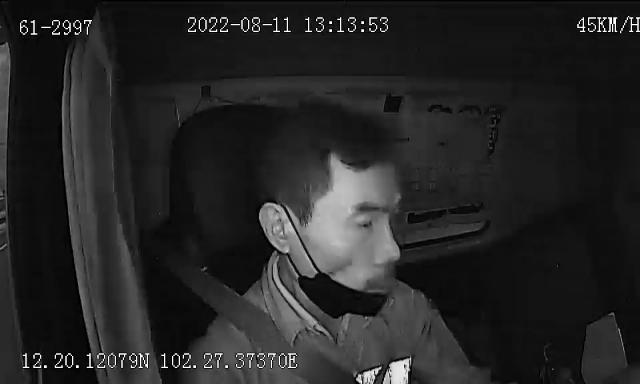SafeDriving: (419, 94, 476, 122), (420, 94, 460, 122)
Seatbelt: (188, 260, 360, 384)
